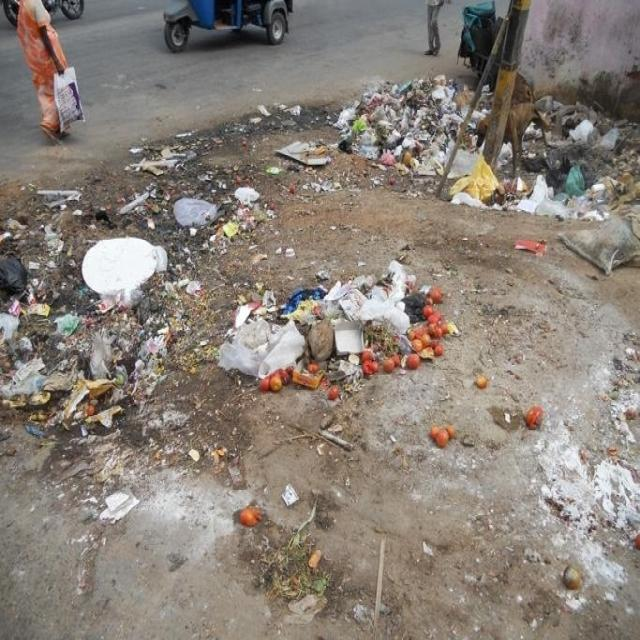garbage: (2, 185, 166, 448), (341, 63, 640, 198), (218, 246, 464, 396)
